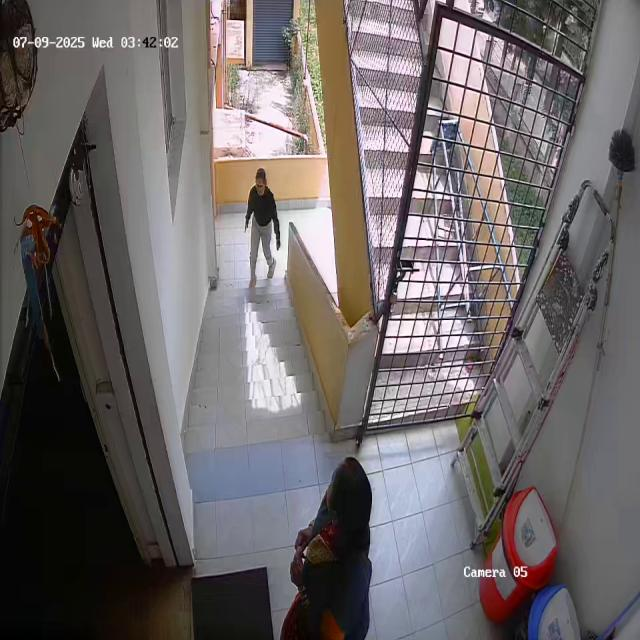person: (284, 453, 382, 640), (246, 166, 280, 284)
